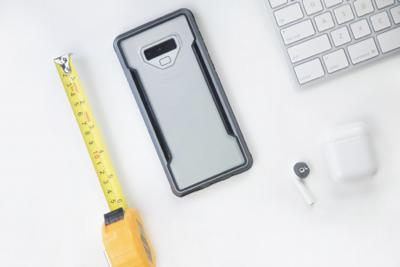cell-phone: (111, 8, 261, 198)
